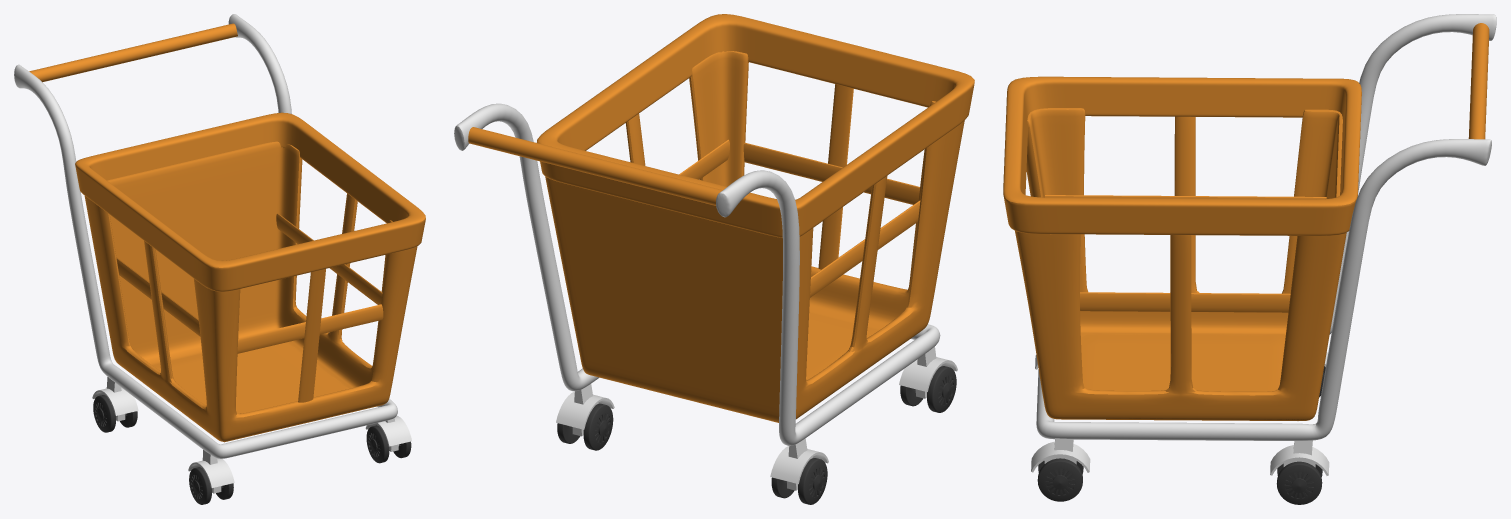
The model's file is cartmodel.glb.
The picture shows the model from 3 angles, left to right: view 1: azimuth 30°, elevation 25°; view 2: azimuth 150°, elevation 25°; view 3: azimuth 270°, elevation 25°; orthographic projection. The views are drawn at different scales.
Visible parts, largest first — view 1: Cube, Cube.001, Cube.002, Cylinder, Cylinder.003, Cylinder.004; view 2: Cube, Cube.001, Cube.002, Cylinder, Cylinder.003, Cylinder.004; view 3: Cube, Cube.001, Cube.002, Cylinder.003, Cylinder.004, Cylinder.
Boxes of the visible parts, <box> form: Cube: <box>84,141,417,442</box>; Cube.001: <box>75,112,425,291</box>; Cube.002: <box>14,14,397,458</box>; Cylinder: <box>29,23,237,82</box>; Cylinder.003: <box>93,395,411,504</box>; Cylinder.004: <box>92,377,411,493</box>; Cube: <box>545,51,964,422</box>; Cube.001: <box>536,14,974,237</box>; Cube.002: <box>454,103,940,445</box>; Cylinder: <box>468,127,722,205</box>; Cylinder.003: <box>557,366,956,504</box>; Cylinder.004: <box>556,346,957,490</box>; Cube: <box>1015,108,1346,420</box>; Cube.001: <box>1003,76,1361,235</box>; Cube.002: <box>1036,14,1496,440</box>; Cylinder.003: <box>1037,366,1325,504</box>; Cylinder.004: <box>1031,352,1329,475</box>; Cylinder: <box>1468,23,1489,139</box>.
Size of the model in its own units: 2.33 by 3.05 by 3.68.
